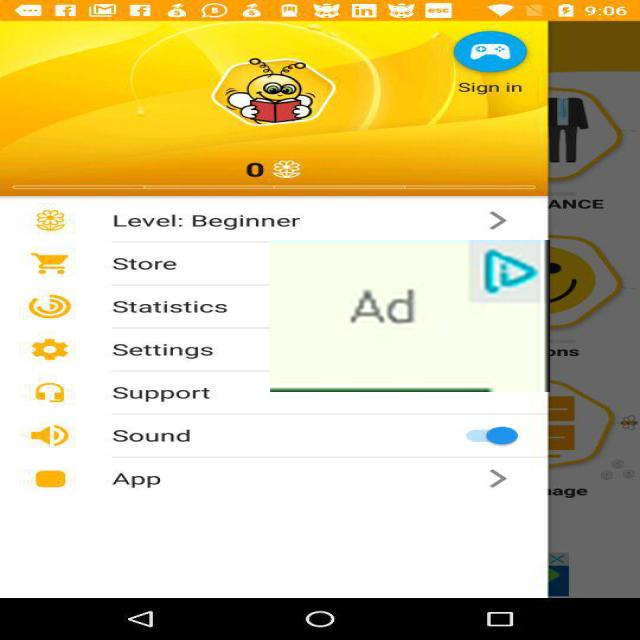sneaking: (270, 240, 550, 392)
